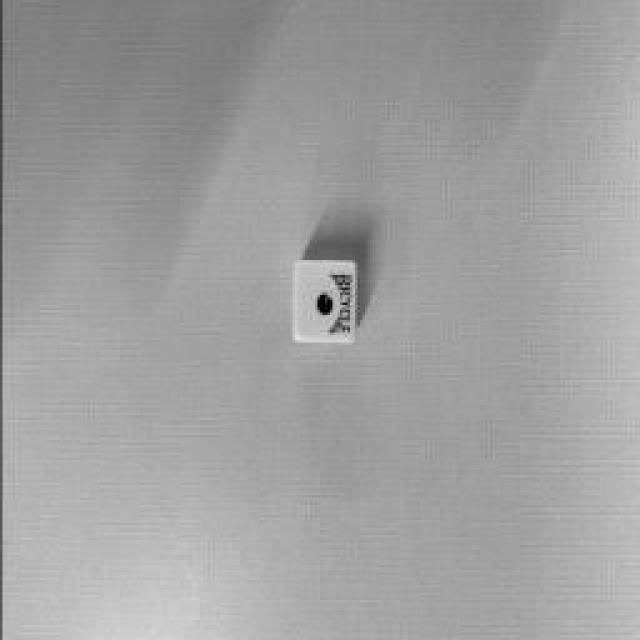dice_1: (293, 262, 355, 342)
